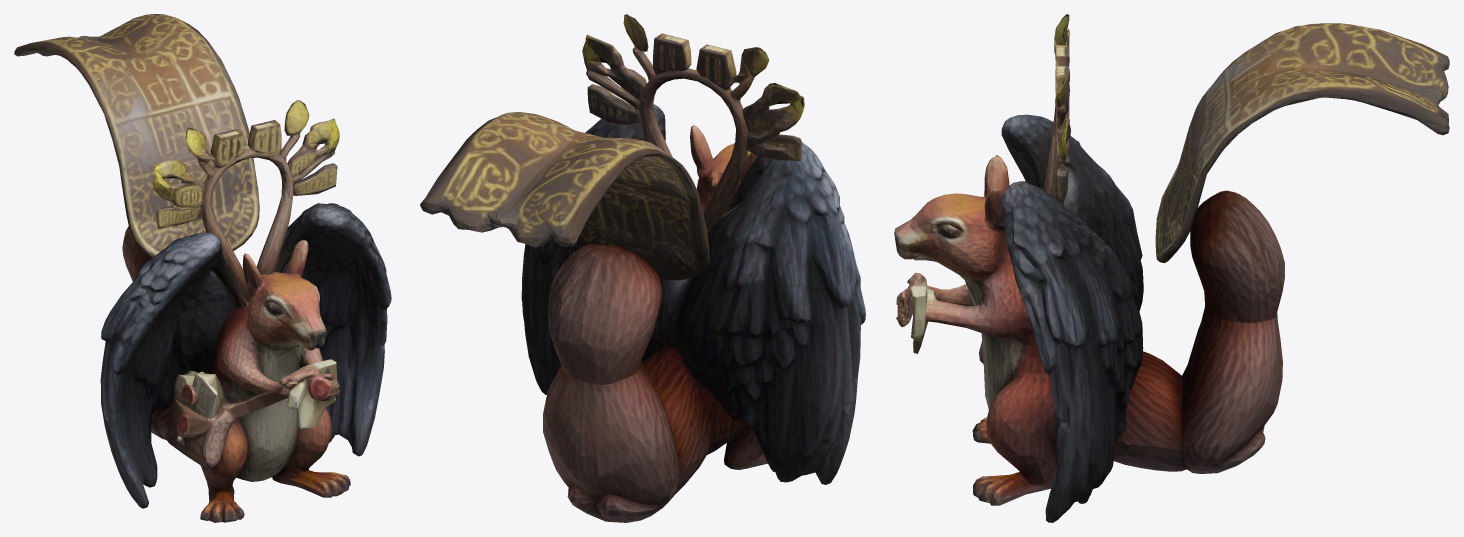
Rendered from quillshade__ratatoskrHighHerald.glb.
3 views of the same model, side by side, from view 1: azimuth 30°, elevation 25°; view 2: azimuth 150°, elevation 25°; view 3: azimuth 270°, elevation 25° (orthographic). The views are drawn at different scales.
Parts seen in each view (by area): view 1: world; view 2: world; view 3: world.
Boxes of the visible parts, x1,y1,x2,y2 form: world: [14, 14, 391, 522]; world: [420, 14, 865, 522]; world: [894, 14, 1449, 522].
Size of the model in its own units: 0.6681 by 0.8412 by 1.
Materials: 1 (1 with a texture image).
